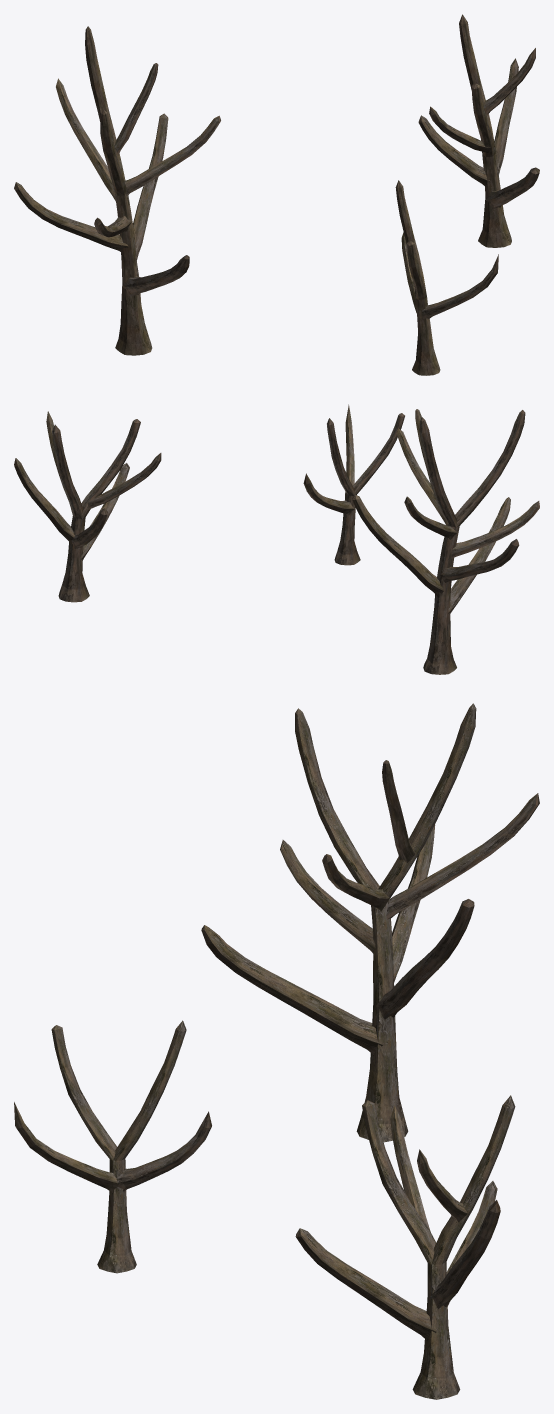
Rendered from bark_log.glb.
The picture shows the model from 3 angles, top to bottom: view 1: azimuth 30°, elevation 25°; view 2: azimuth 150°, elevation 25°; view 3: azimuth 270°, elevation 25°; orthographic projection. The views are drawn at different scales.
Visible parts, largest first — view 1: geometry_0; view 2: geometry_0; view 3: geometry_0.
Boxes of the visible parts, x1,y1,x2,y2 form: geometry_0: [14, 14, 539, 375]; geometry_0: [14, 404, 539, 674]; geometry_0: [14, 703, 539, 1399].
Bounding box in the file's own units: 1500 × 819 × 932.
1 material, 1 textured.
